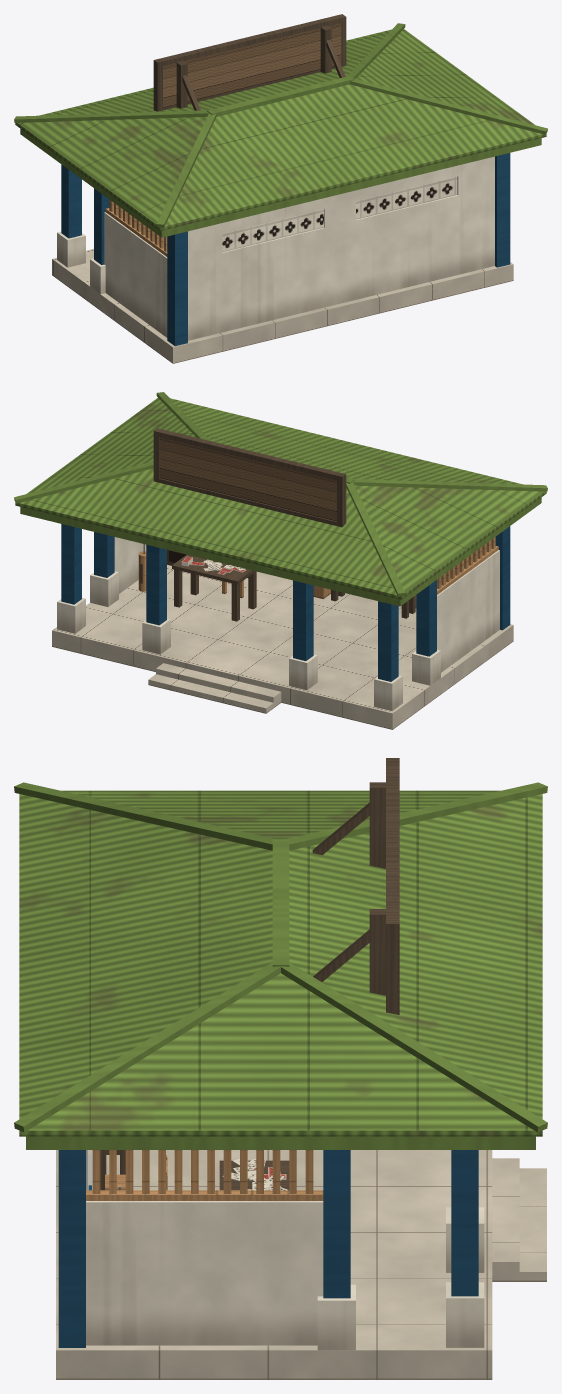
The model's file is pos_ronda.fbx.
The picture shows the model from 3 angles, top to bottom: view 1: azimuth 30°, elevation 25°; view 2: azimuth 150°, elevation 25°; view 3: azimuth 270°, elevation 25°; orthographic projection. The views are drawn at different scales.
Parts seen in each view (by area): view 1: PosRonda_Seng, PosRonda_Plester, PosRonda_Hijau, PosRonda_Beton, PosRonda_PapanNama, PosRonda_Tiang, PosRonda_Kayu, PosRonda_Roster, PosRonda_Bambu; view 2: PosRonda_Seng, PosRonda_Beton, PosRonda_Plester, PosRonda_Tiang, PosRonda_Hijau, PosRonda_PapanNama, PosRonda_Kayu, PosRonda_Bambu, PosRonda_Cetak; view 3: PosRonda_Seng, PosRonda_Beton, PosRonda_Plester, PosRonda_Hijau, PosRonda_Tiang, PosRonda_Kayu, PosRonda_Bambu, PosRonda_Cetak.
Part boxes in pixels (bbox=[...]): PosRonda_Seng: bbox=[15, 29, 546, 230]; PosRonda_Plester: bbox=[57, 156, 494, 340]; PosRonda_Hijau: bbox=[14, 23, 547, 237]; PosRonda_Beton: bbox=[52, 249, 513, 363]; PosRonda_PapanNama: bbox=[163, 23, 340, 107]; PosRonda_Tiang: bbox=[61, 153, 510, 346]; PosRonda_Kayu: bbox=[153, 14, 346, 111]; PosRonda_Roster: bbox=[222, 176, 457, 252]; PosRonda_Bambu: bbox=[105, 199, 167, 256]; PosRonda_Seng: bbox=[15, 398, 546, 599]; PosRonda_Beton: bbox=[52, 565, 513, 729]; PosRonda_Plester: bbox=[57, 537, 499, 710]; PosRonda_Tiang: bbox=[61, 524, 510, 681]; PosRonda_Hijau: bbox=[14, 392, 547, 606]; PosRonda_PapanNama: bbox=[159, 437, 336, 521]; PosRonda_Kayu: bbox=[139, 428, 415, 621]; PosRonda_Bambu: bbox=[138, 537, 498, 598]; PosRonda_Cetak: bbox=[181, 556, 245, 574]; PosRonda_Seng: bbox=[19, 790, 542, 1136]; PosRonda_Beton: bbox=[56, 1150, 546, 1379]; PosRonda_Plester: bbox=[86, 1201, 484, 1350]; PosRonda_Hijau: bbox=[14, 782, 547, 1149]; PosRonda_Tiang: bbox=[58, 1150, 478, 1347]; PosRonda_Kayu: bbox=[100, 758, 399, 1190]; PosRonda_Bambu: bbox=[86, 1150, 323, 1200]; PosRonda_Cetak: bbox=[86, 1150, 287, 1190].
Size of the model in its own units: 29.88 by 15.74 by 19.58.
Materials: 13 (13 with a texture image).
